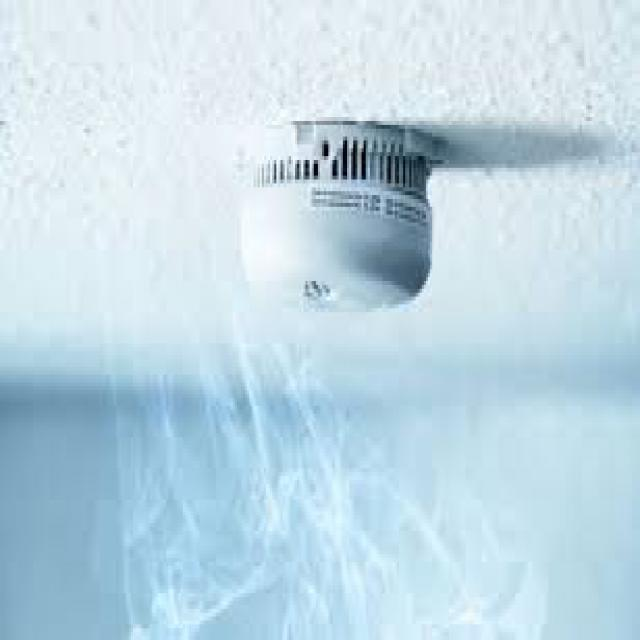Smoke: (122, 332, 522, 640)
